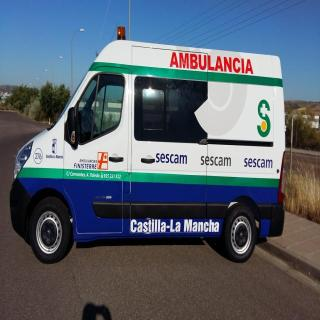Ambulance: (5, 18, 296, 268)
